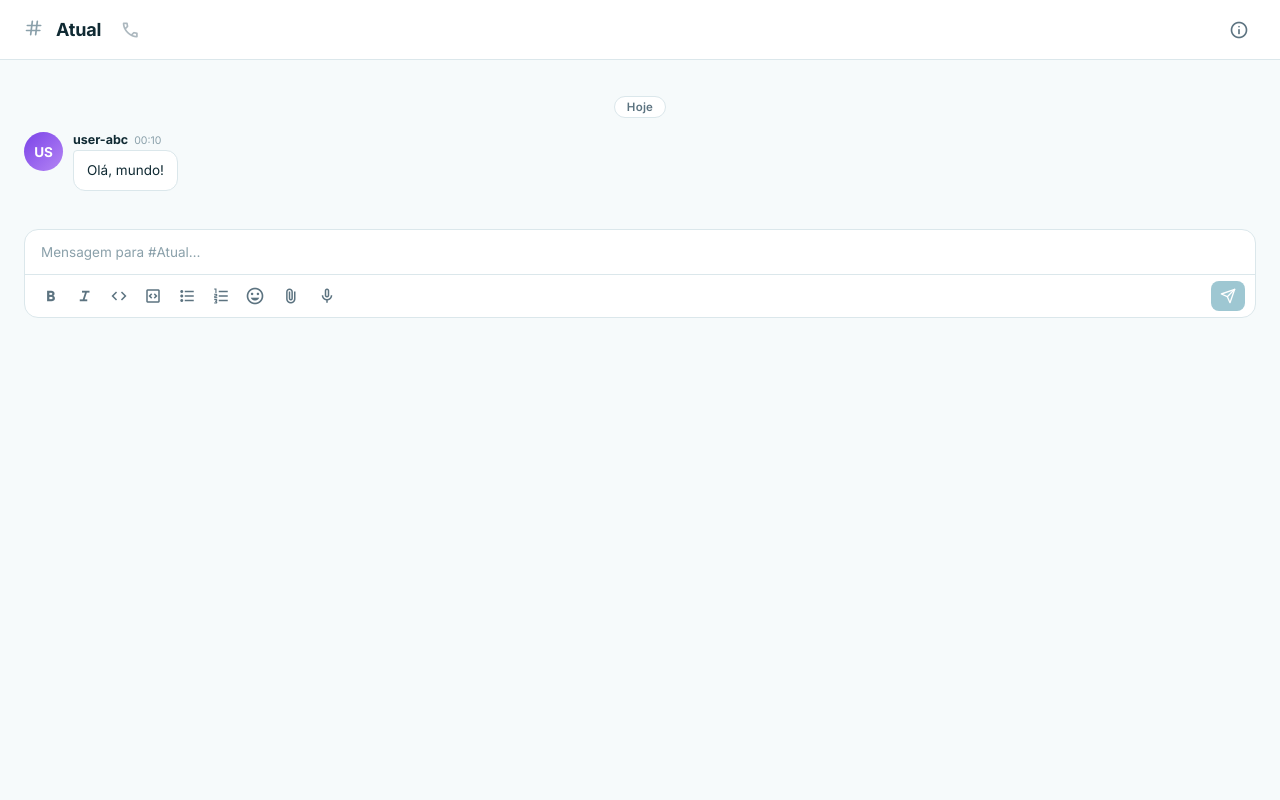
Scenario: ChatMessageArea — RF-08 forwarding › keeps context after failure and allows retry
Hover over the element with test id "chat-msg-bubble": [101, 161] box [24, 132, 178, 191]
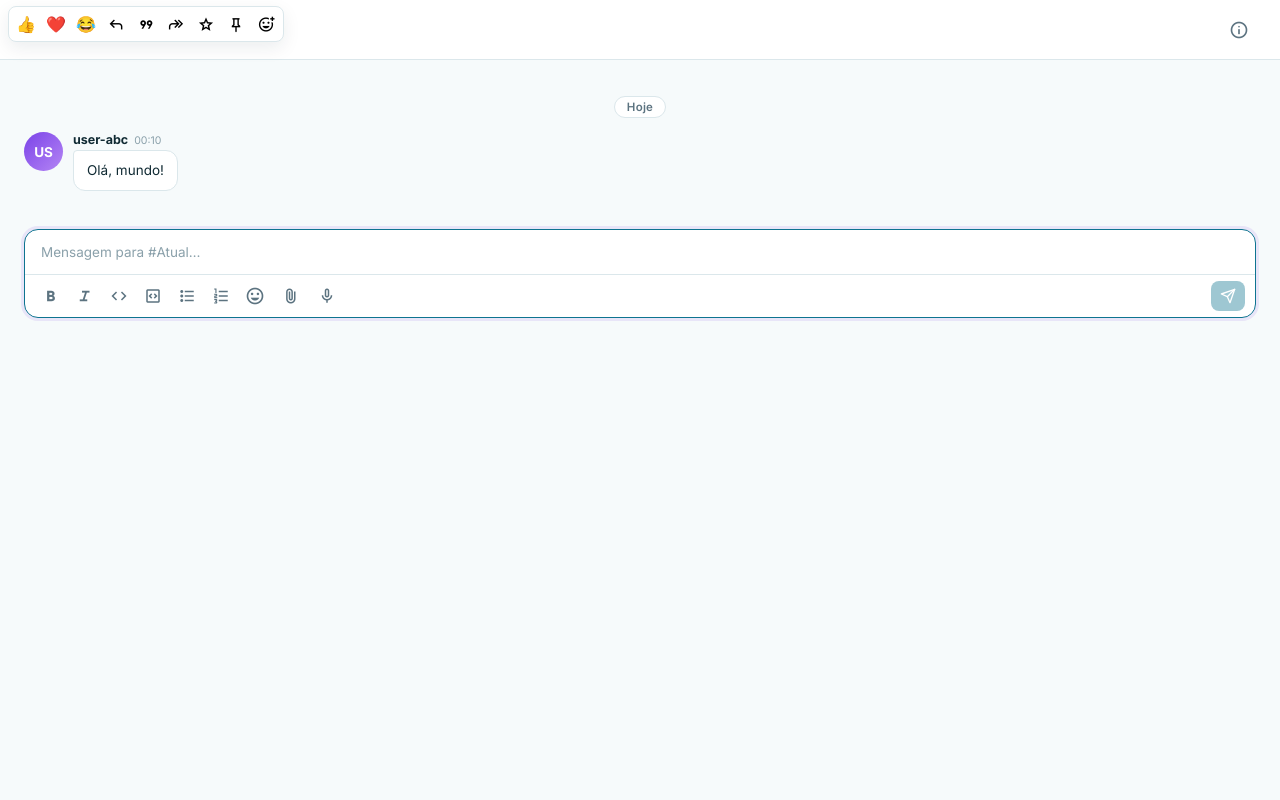
Click the button named "Encaminhar": [176, 24] box [162, 10, 190, 38]
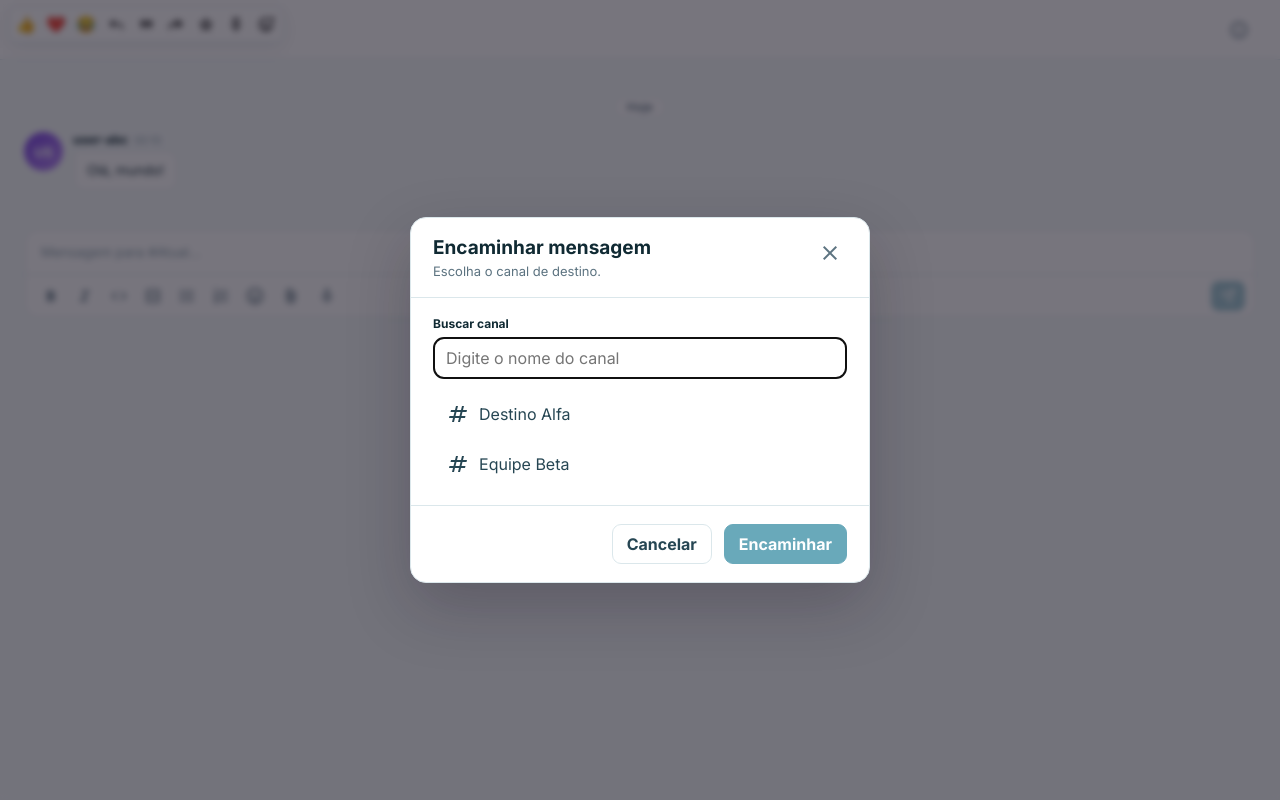
Click the button "Destino Alfa": [525, 414] box [433, 391, 847, 437]
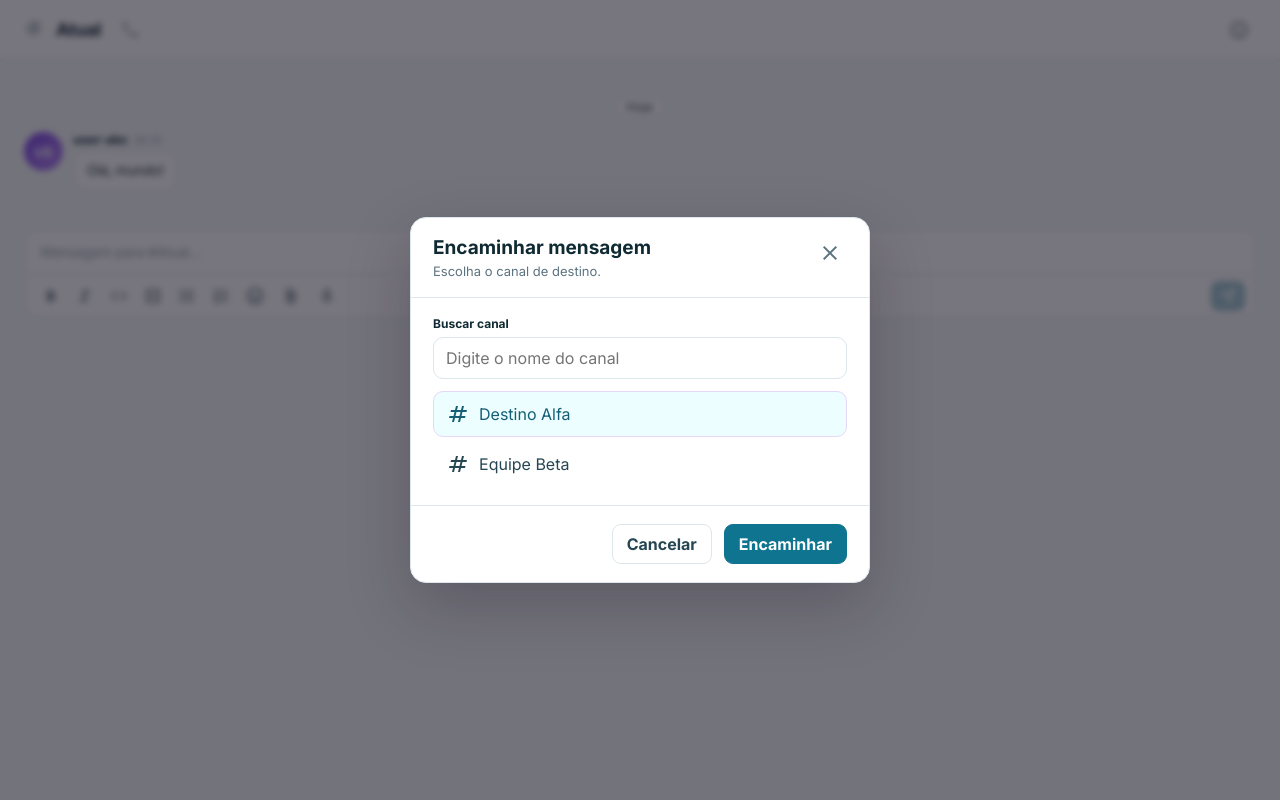
Click the button "Encaminhar": [785, 544] box [724, 524, 847, 564]
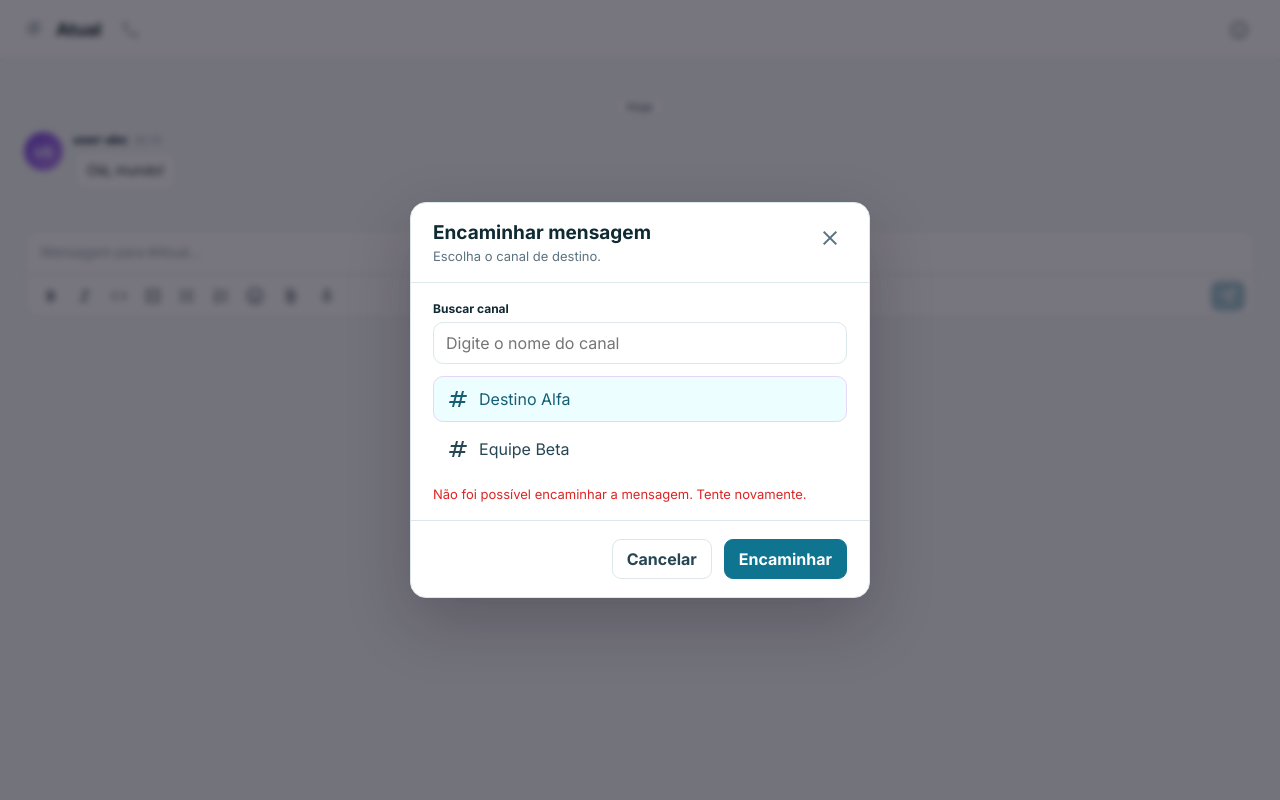
Check: the message shows "Não foi possível encaminhar", box [433, 486, 806, 502]
Click the button "Encaminhar": [785, 559] box [724, 539, 847, 579]
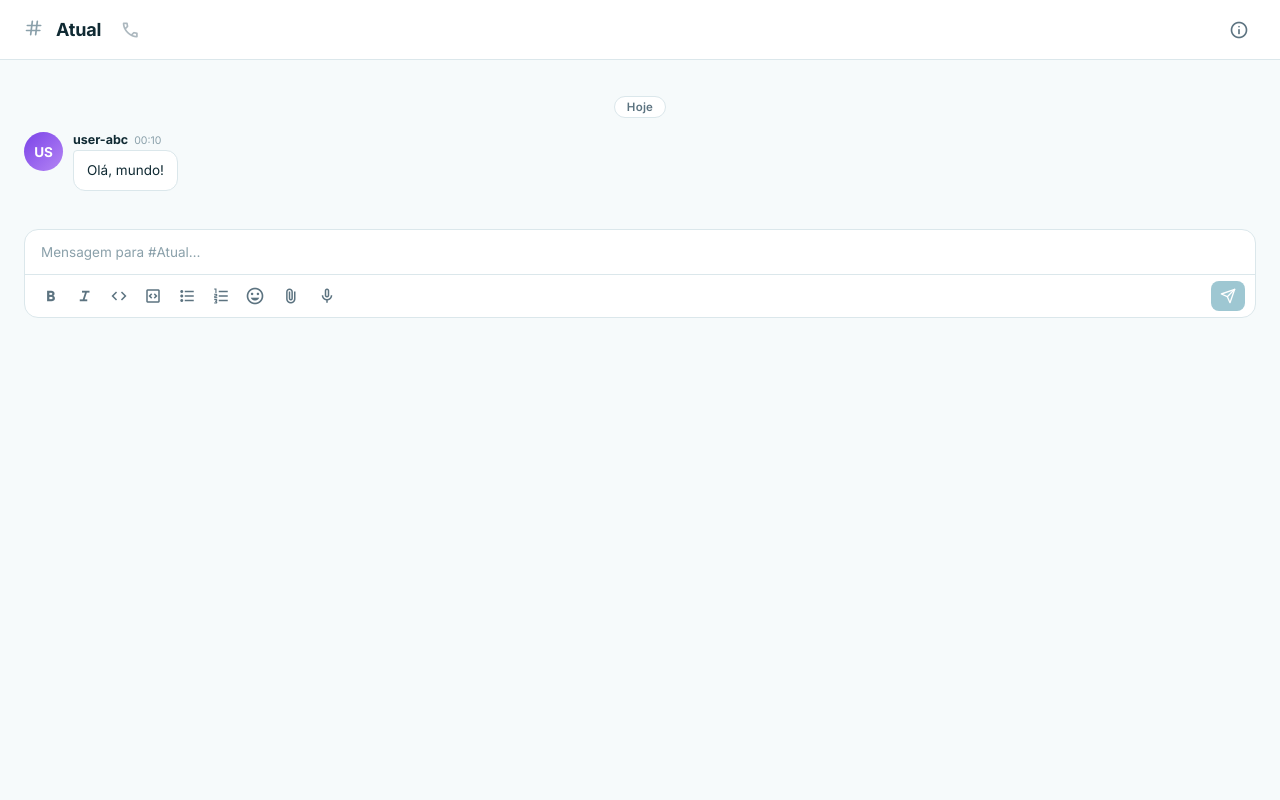
Check: the dialog is gone
